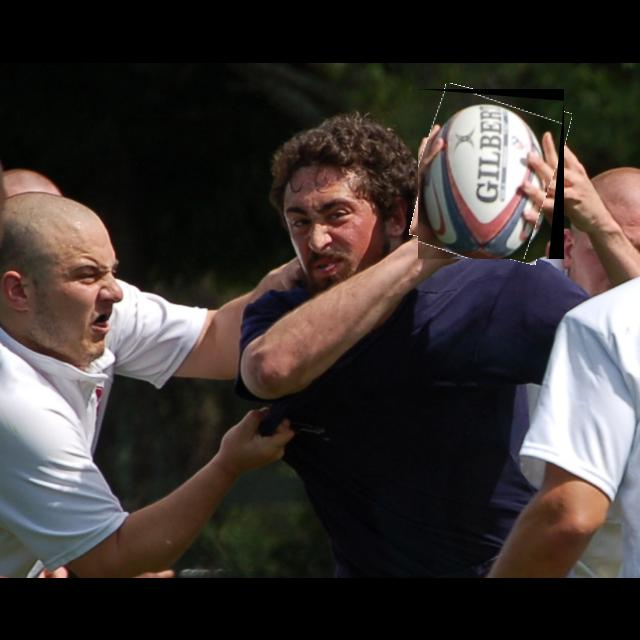Football: (418, 89, 564, 259)
